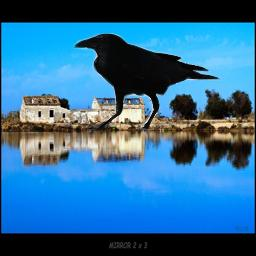Crow: (73, 33, 223, 133)
